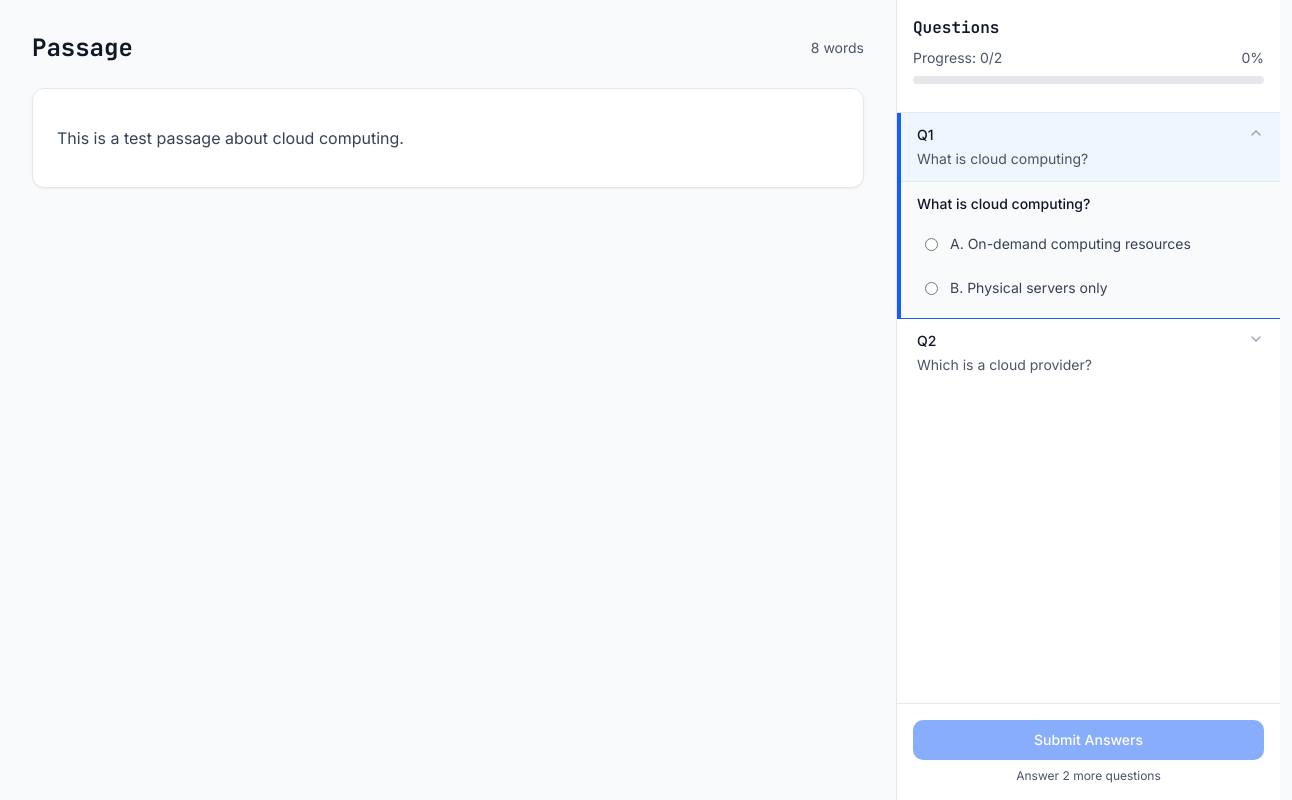
Scenario: ScenarioReader › Progress tracking › should update progress when answers change
The image size is (1292, 800).
Check: the text "Progress: 0/2" is shown, box [913,48,1002,68]
Click the radio button labelled "A. On-demand computing resources" at (932, 244), box [925,238,938,251]
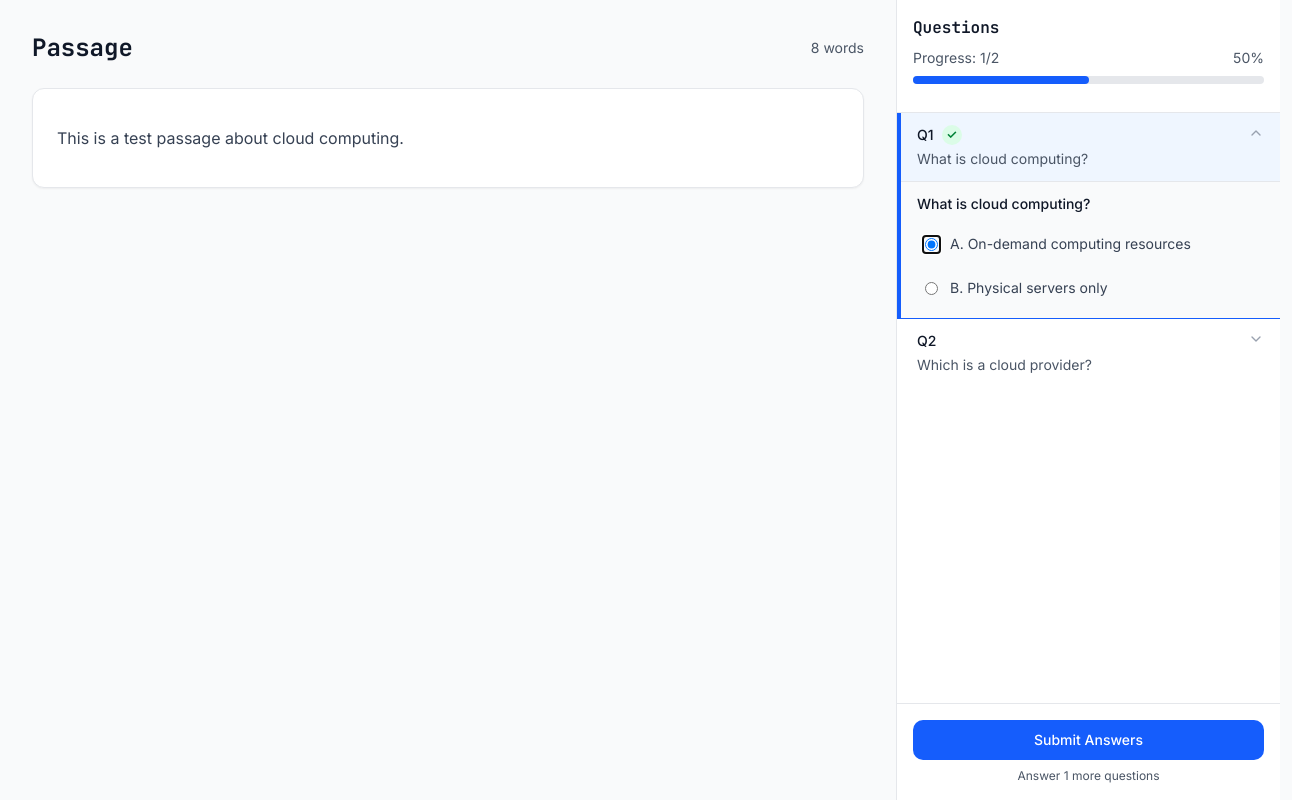
Check: the text "Progress: 1/2" is shown, box [913,48,999,68]
